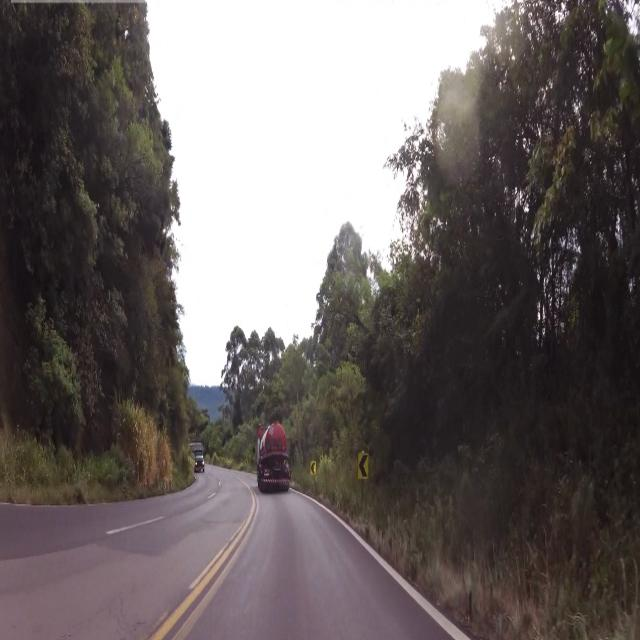Del: (358, 449, 368, 480)
